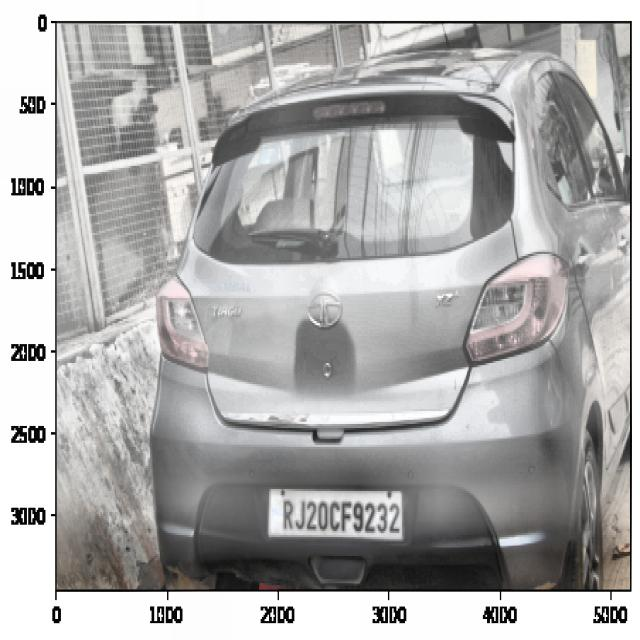license_plate: (280, 489, 404, 542)
